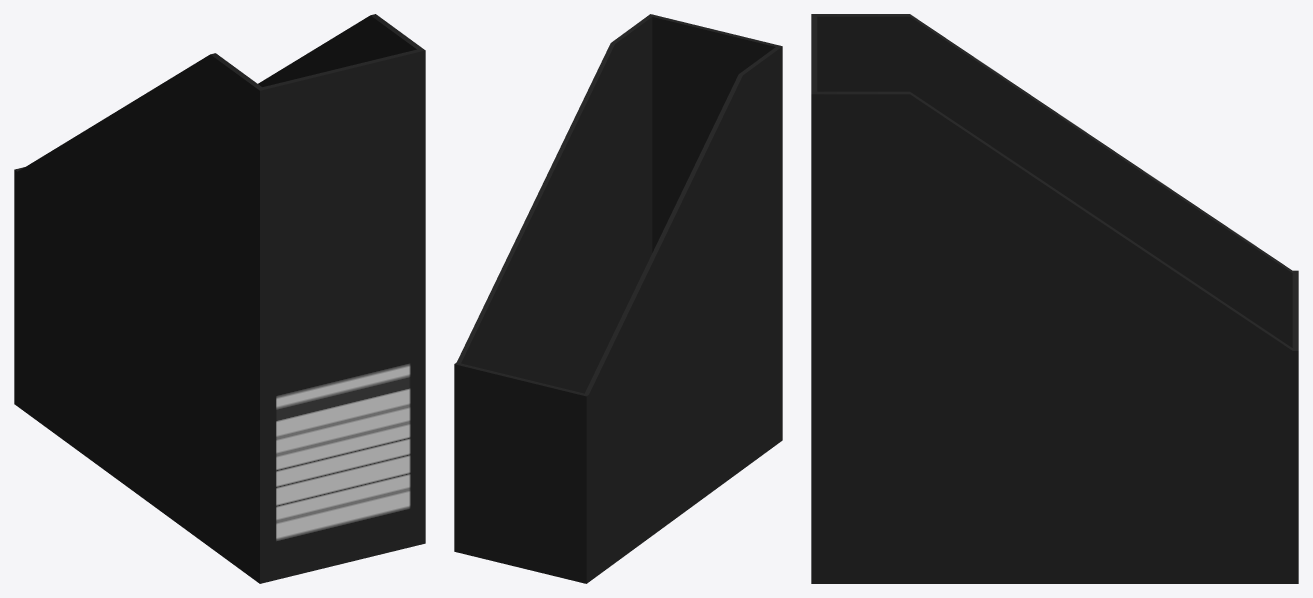
File: office folder9.FBX
3 views of the same model, side by side, from view 1: azimuth 30°, elevation 25°; view 2: azimuth 150°, elevation 25°; view 3: azimuth 270°, elevation 25° (orthographic). The views are drawn at different scales.
Visible parts, largest first — view 1: office folder9; view 2: office folder9; view 3: office folder9.
Boxes of the visible parts, bbox=[...] form: office folder9: bbox=[14, 14, 425, 583]; office folder9: bbox=[454, 14, 782, 583]; office folder9: bbox=[811, 14, 1298, 583].
Size of the model in its own units: 3.92 by 10.07 by 11.16.
Materials: 1 (1 with a texture image).
